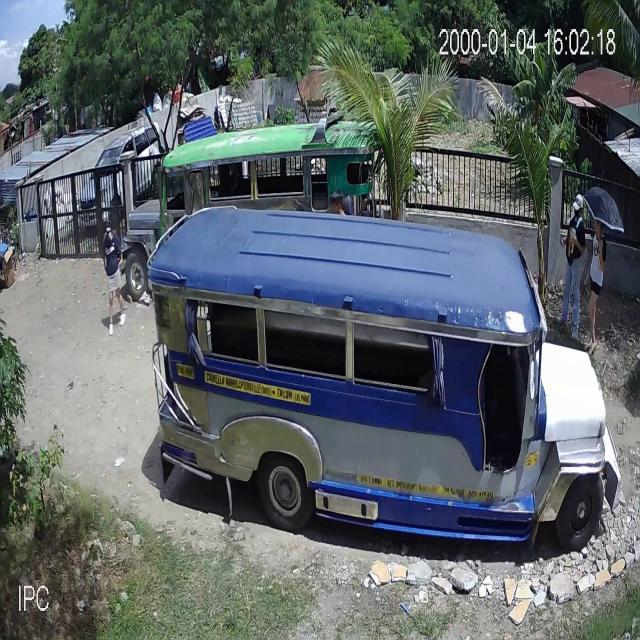standing: (559, 191, 587, 343), (586, 219, 609, 354)
walking: (105, 220, 126, 338), (327, 187, 349, 218)
